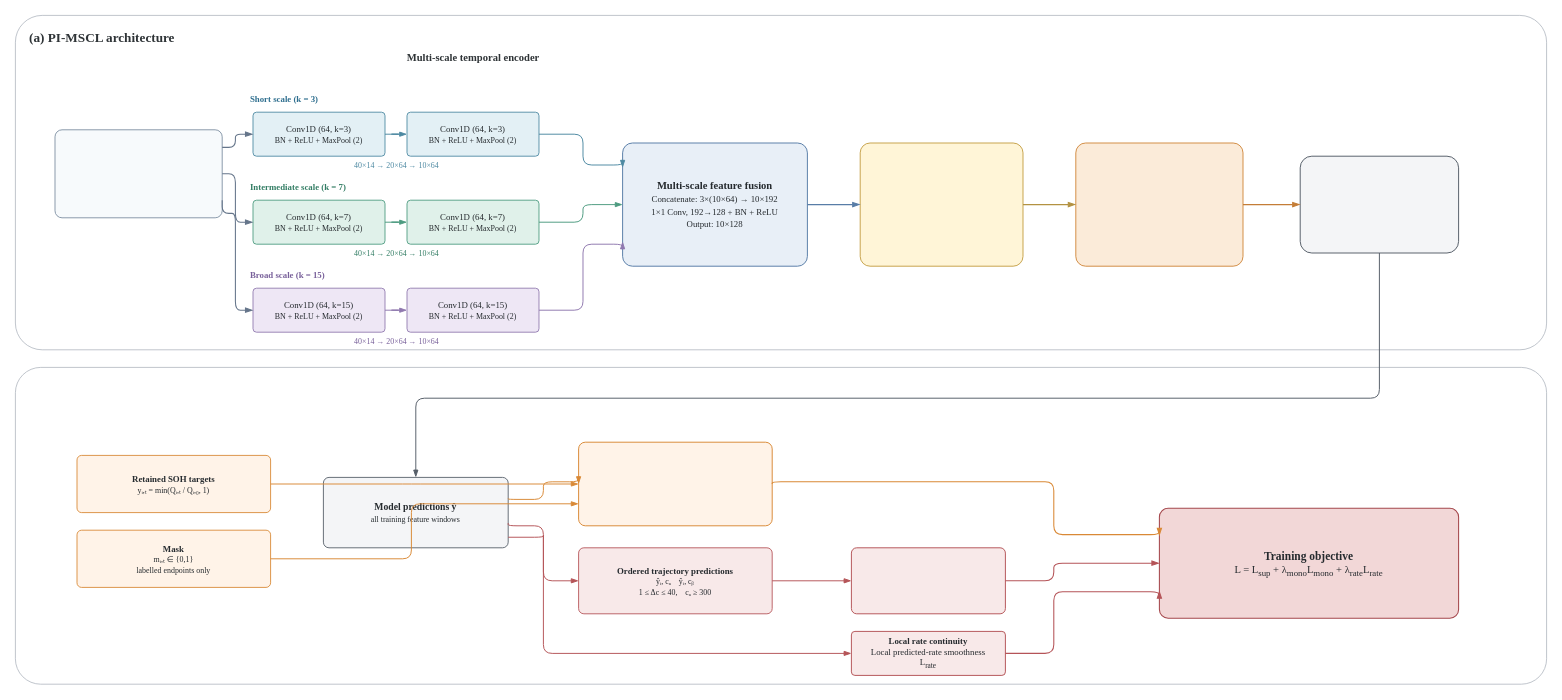
The diagram is 1562 pixels wide and 700 high, and some of its shapes have lost their labels. Each missing label, with the box of its shape:
(b) Sparse-label physics-informed learning: (15, 367, 1547, 684)
Charging-feature sequence Xᵢ,ₜ ∈ R⁴⁰×¹⁴ 40 cycles × 14 features: (54, 129, 222, 218)
Masked supervised regression Masked MSE L sup: (578, 441, 772, 526)
Regression head Final hidden state FC (64) → ReLU Dropout (0.4) → Sigmoid: (1075, 142, 1243, 266)
Soft monotonicity L mono: (851, 547, 1005, 614)
Two-layer LSTM Temporal length: 10 Hidden units: 64 Dropout: 0.4: (859, 142, 1023, 266)
ŷᵢ,ₜ Predicted SOH ŷᵢ,ₜ ∈ (0, 1): (1299, 155, 1459, 253)
